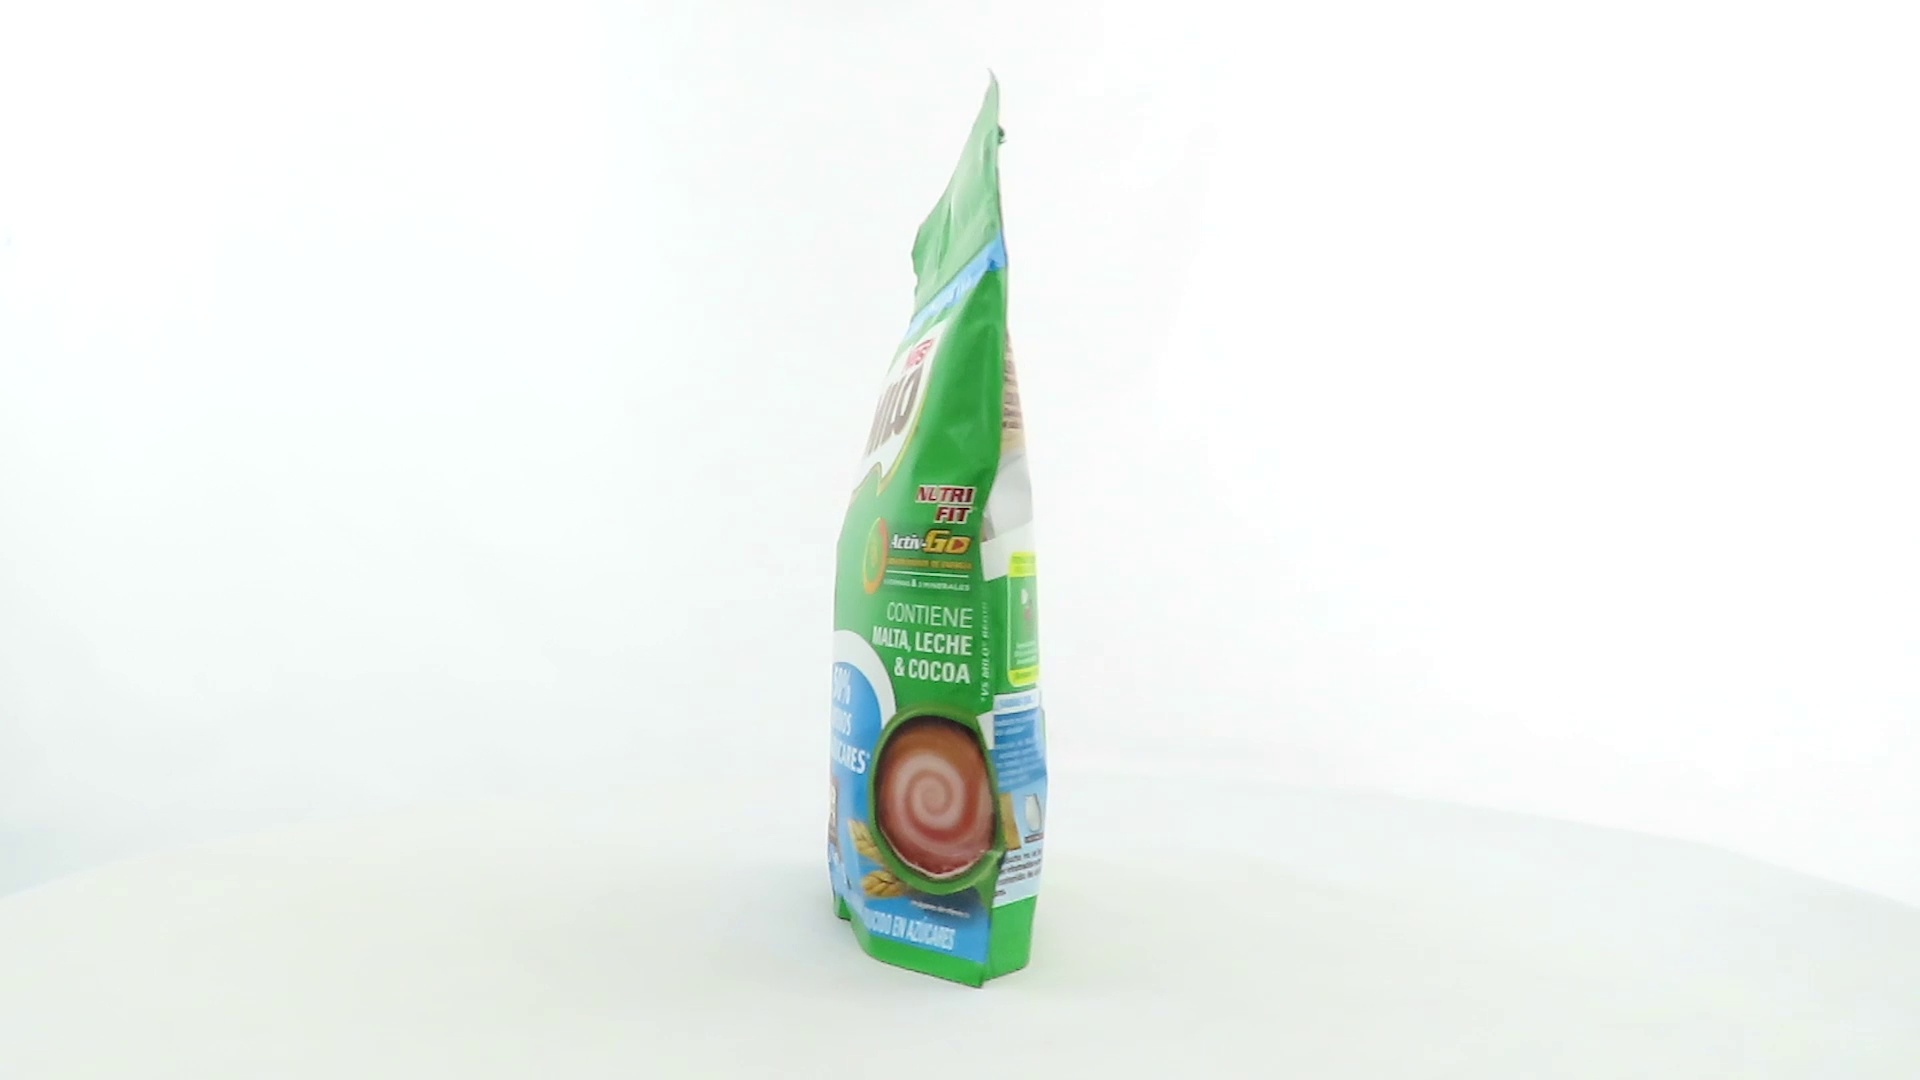COL0170205DYP20000: (822, 62, 1054, 996)
